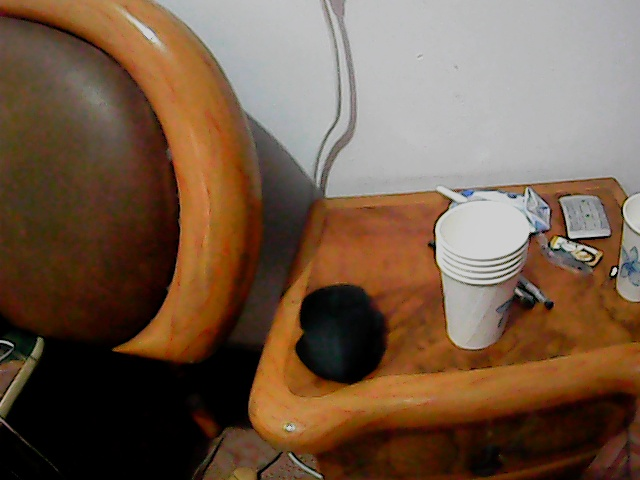cup: (433, 196, 531, 352)
mouse: (293, 279, 384, 382)
